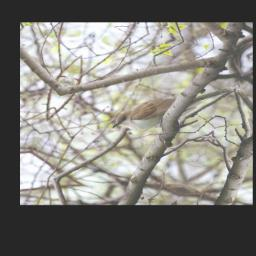Cuckoo: (111, 67, 237, 148)
